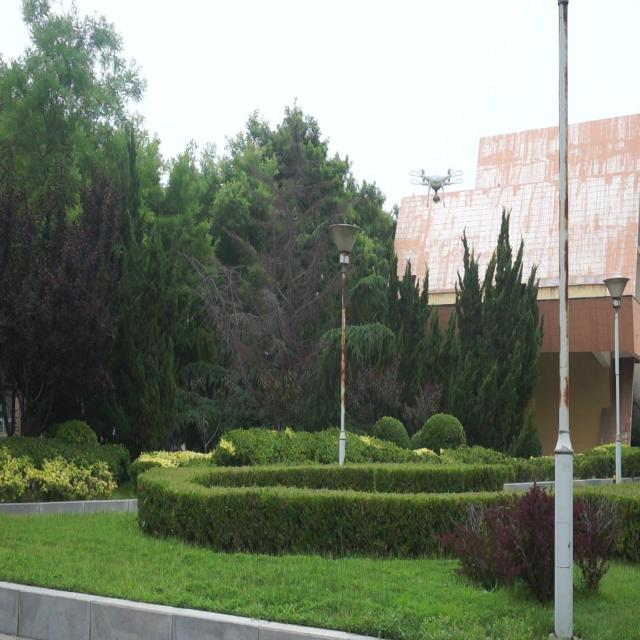drone: (406, 162, 464, 215)
